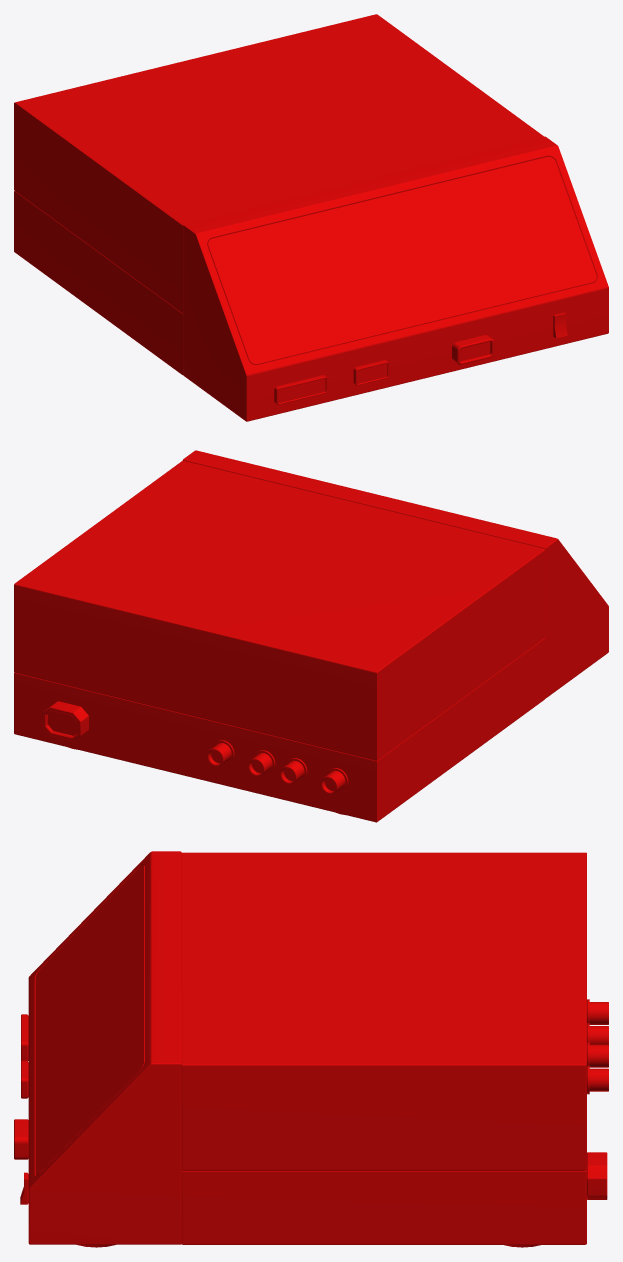
The model's file is Equipment_24.fbx.
3 views of the same model, one above another, from view 1: azimuth 30°, elevation 25°; view 2: azimuth 150°, elevation 25°; view 3: azimuth 270°, elevation 25° (orthographic). The views are drawn at different scales.
Visible parts, largest first — view 1: L6:polySurface1165; view 2: L6:polySurface1165; view 3: L6:polySurface1165.
Boxes of the visible parts, x1=… form: L6:polySurface1165: x1=14, y1=14, x2=608, y2=421; L6:polySurface1165: x1=14, y1=450, x2=608, y2=822; L6:polySurface1165: x1=14, y1=851, x2=608, y2=1247.
Size of the model in its own units: 33.92 by 14.61 by 40.08.
